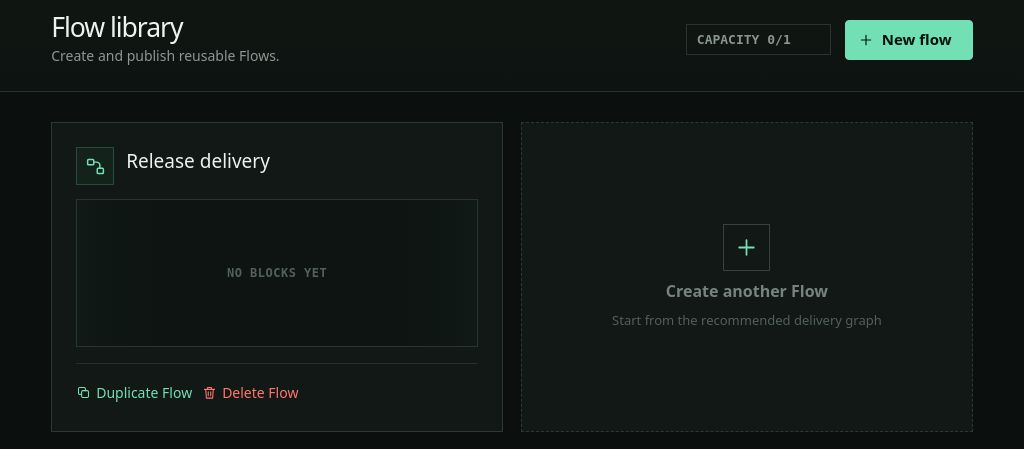
Test case: FlowLibrary › cancels a library rename without sending a request
Click the button with aria-label "Rename flow Release delivery".
click(208, 161)  # box [126,147,289,176]
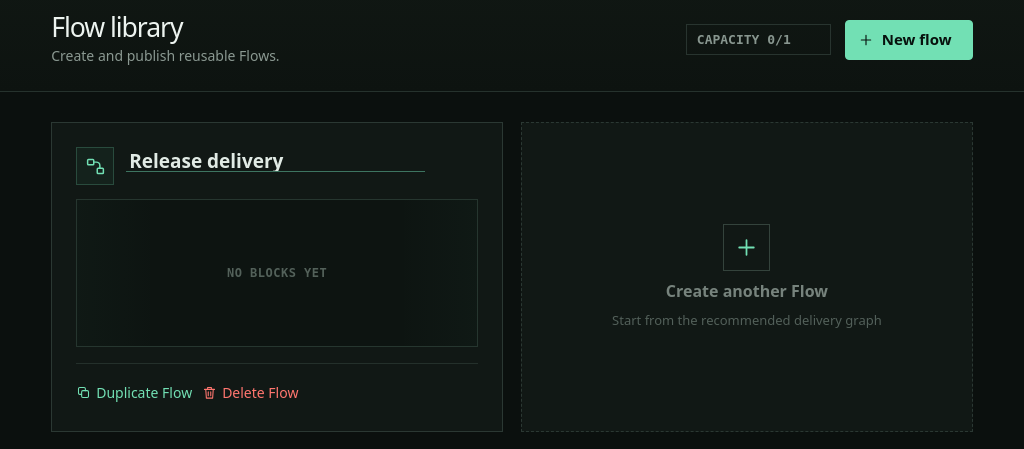
Replace the text in the field named "Flow name for Release delivery" with "Discarded name" at (276, 161), box [126,150,425,172]
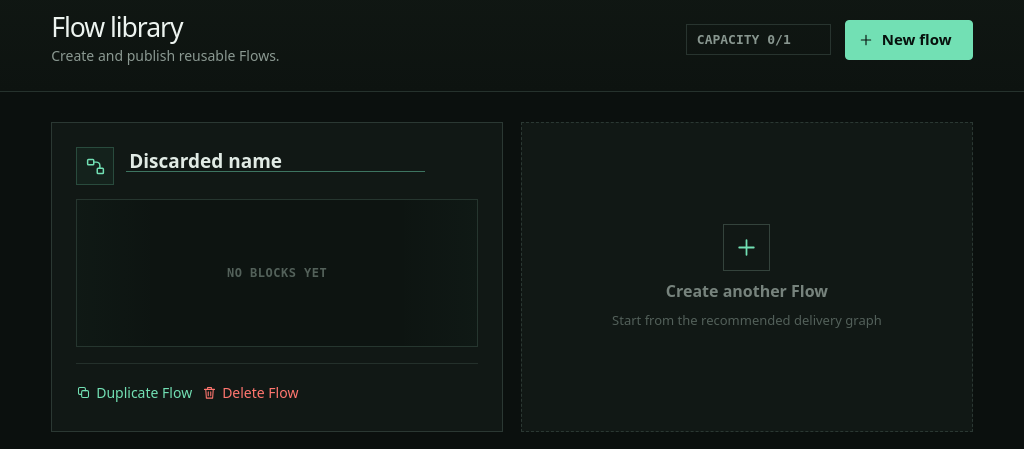
Press Escape in the field named "Flow name for Release delivery", box [126,150,425,172]
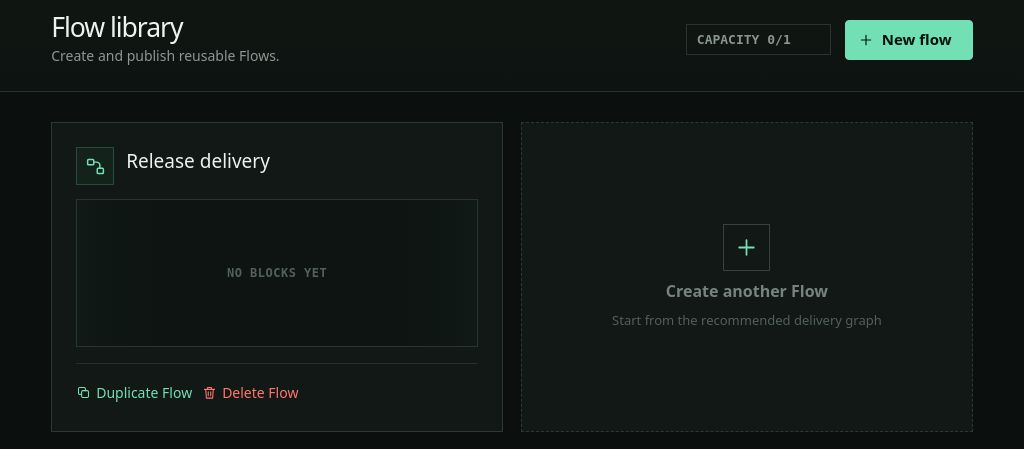
Expected: the button with aria-label "Rename flow Release delivery" is shown, [126,147,289,176]
